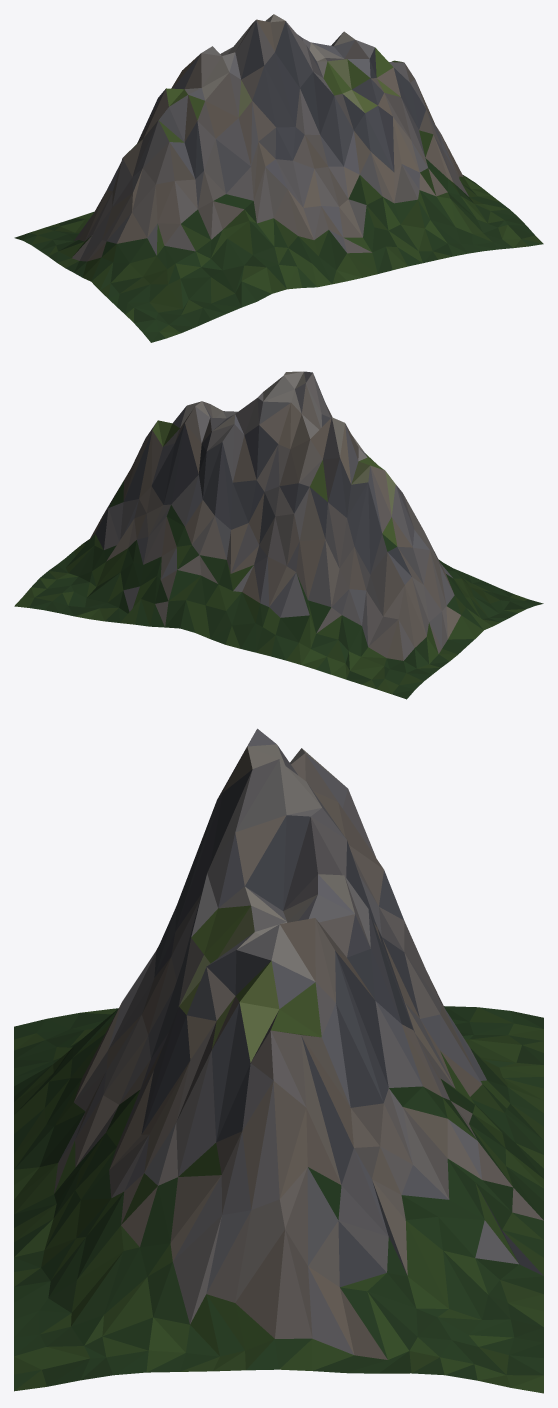
Rendered from mountain_cliff_chunk.glb.
The picture shows the model from 3 angles, top to bottom: view 1: azimuth 30°, elevation 25°; view 2: azimuth 150°, elevation 25°; view 3: azimuth 270°, elevation 25°; orthographic projection. The views are drawn at different scales.
Parts seen in each view (by area): view 1: mountain_cliff_chunk; view 2: mountain_cliff_chunk; view 3: mountain_cliff_chunk.
Part boxes in pixels (x1,y1,x2,y2): mountain_cliff_chunk: [14, 14, 543, 342]; mountain_cliff_chunk: [14, 371, 543, 699]; mountain_cliff_chunk: [14, 728, 543, 1393].
Bounding box in the file's own units: 86 × 49.44 × 52.
